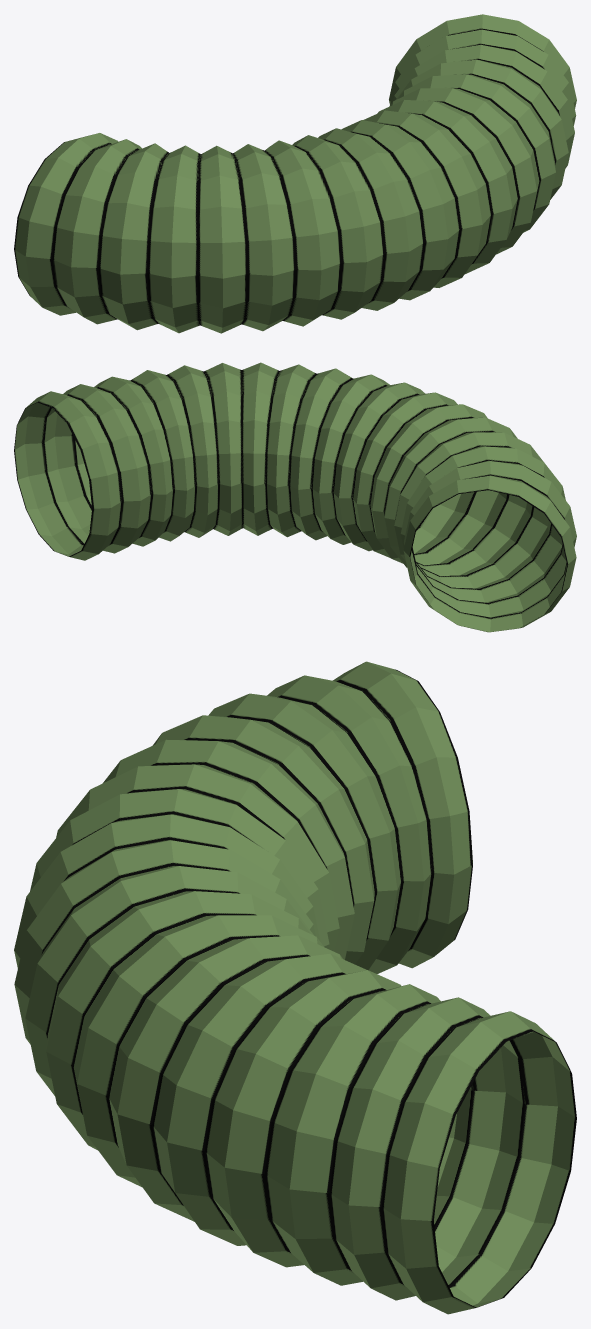
Rendered from MFC tunnel.fbx.
3 renders of one model, top to bottom at view 1: azimuth 30°, elevation 25°; view 2: azimuth 150°, elevation 25°; view 3: azimuth 270°, elevation 25°, orthographic. The views are drawn at different scales.
Parts seen in each view (by area): view 1: Circle; view 2: Circle; view 3: Circle.
Boxes of the visible parts, left/top/right/bottom form: Circle: left=14, top=14, right=576, bottom=333; Circle: left=14, top=362, right=576, bottom=632; Circle: left=14, top=661, right=576, bottom=1314.
Size of the model in its own units: 778 by 223 by 398.
